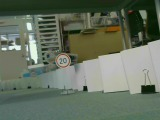speed_20: (53, 52, 72, 69)
